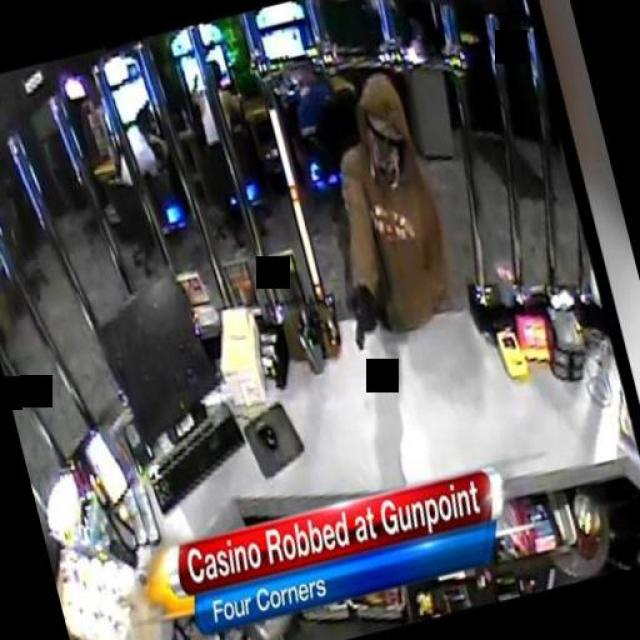gun: (329, 284, 399, 368)
